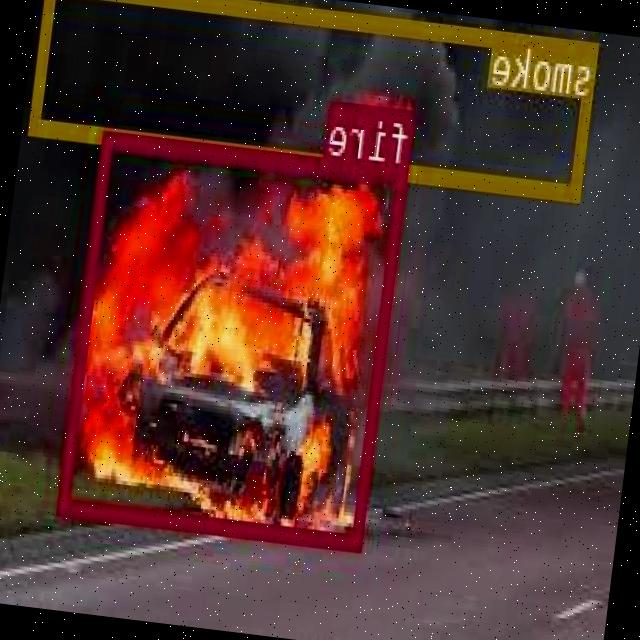fire: (60, 130, 409, 548)
smoke: (31, 0, 601, 199)
